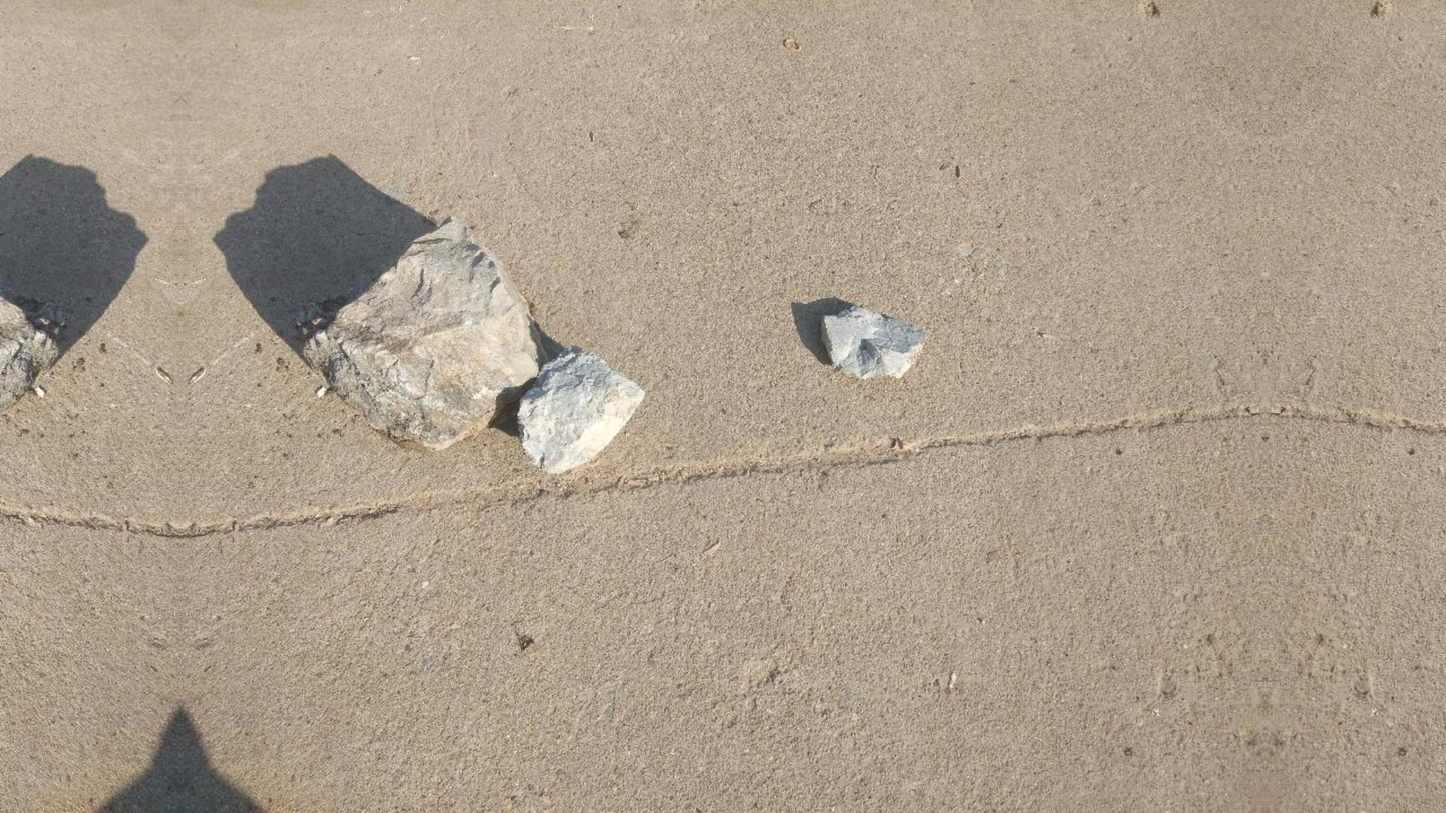rock: (304, 217, 539, 448), (517, 347, 644, 472), (0, 290, 64, 410), (822, 306, 926, 377)
